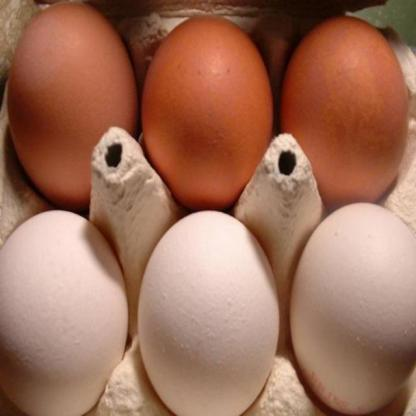egg: (124, 197, 288, 416), (139, 8, 287, 218), (267, 10, 411, 214), (4, 197, 136, 416), (286, 195, 416, 416), (14, 4, 147, 215)
